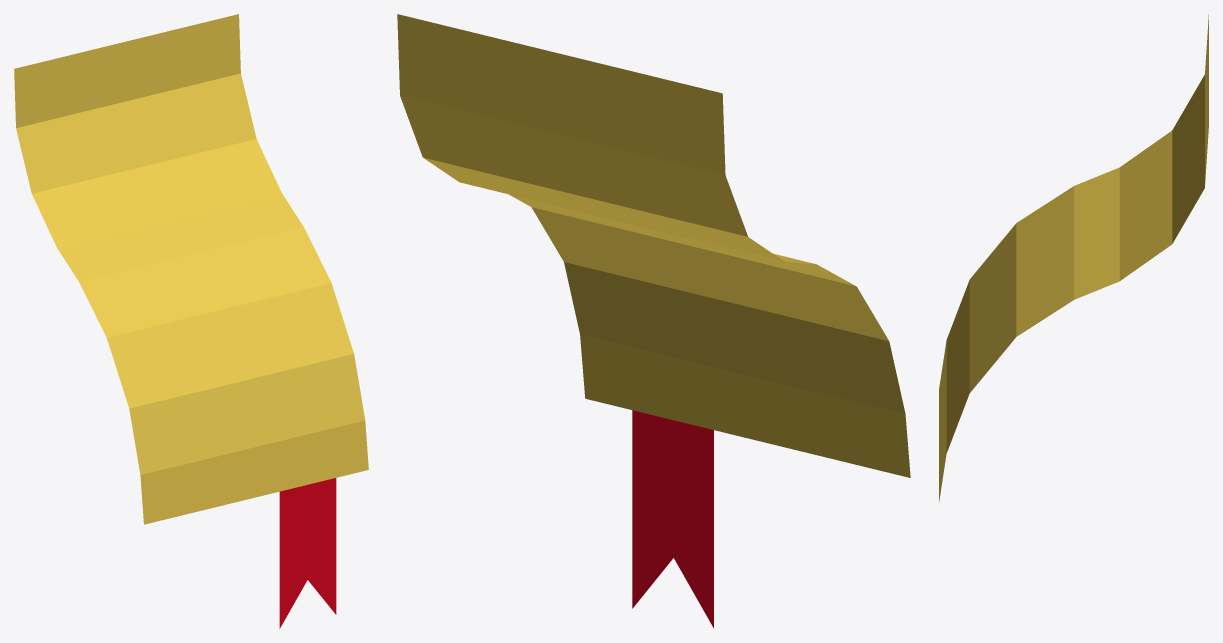
3 renders of one model, left to right at view 1: azimuth 30°, elevation 25°; view 2: azimuth 150°, elevation 25°; view 3: azimuth 270°, elevation 25°, orthographic. The views are drawn at different scales.
Parts seen in each view (by area): view 1: Plane; view 2: Plane; view 3: Plane.
Boxes of the visible parts, x1,y1,x2,y2 form: Plane: [14, 14, 368, 628]; Plane: [397, 14, 910, 628]; Plane: [939, 14, 1208, 502].
Size of the model in its own units: 0.4 by 0.8468 by 0.4.
